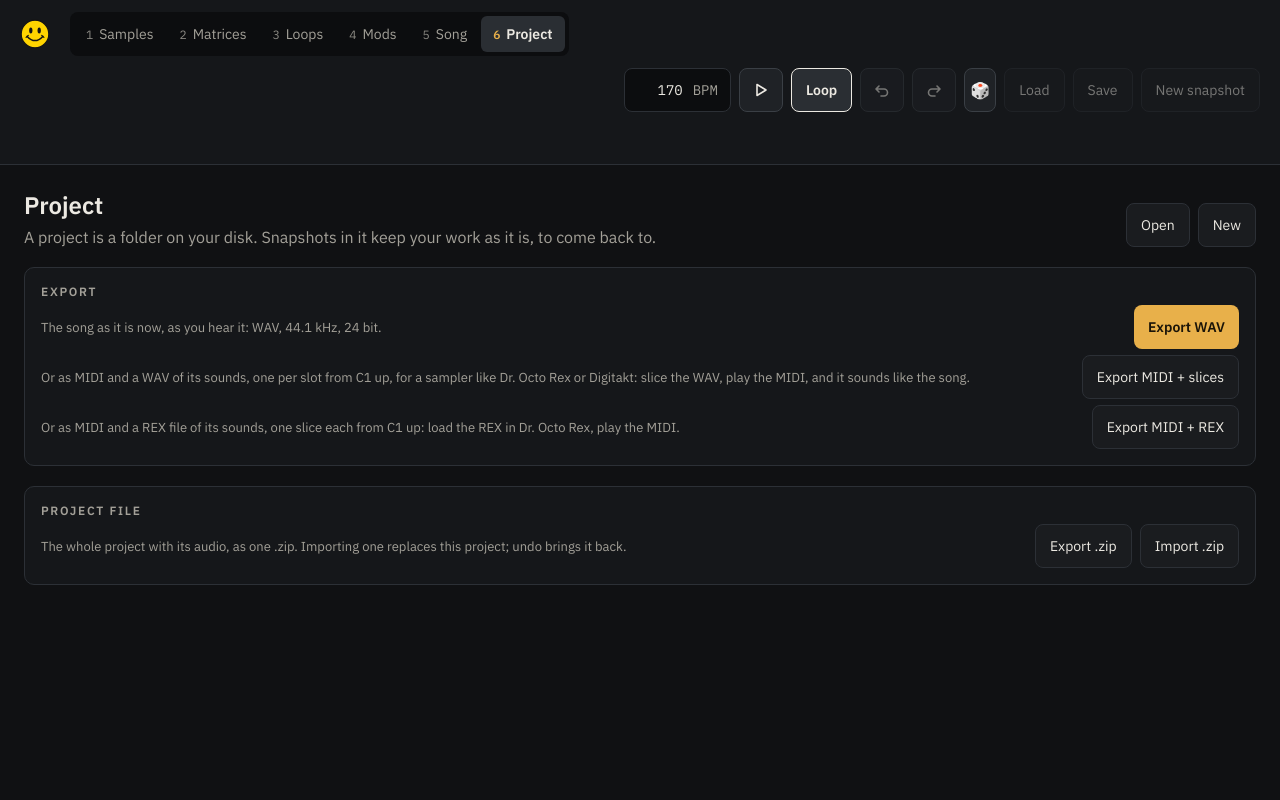
Test: Project › New snapshot looks off while it is off (no project folder), and primary once there is one (U17)
The image size is (1280, 800).
Expected: the button "New snapshot" is disabled, 1140,68 -> 1260,112
Step 1. Click the button "New" → (1227, 225), box 1198,203 -> 1256,247
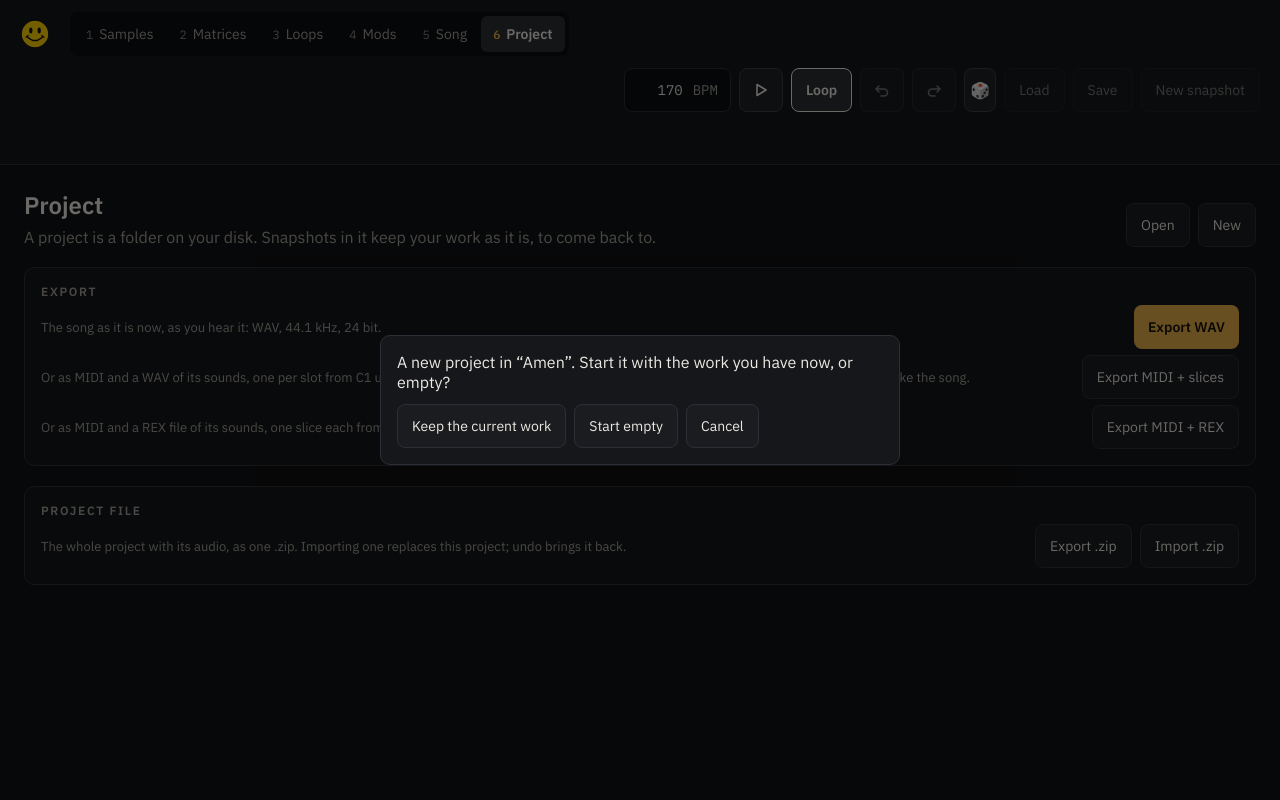
Step 2. Click the button "Keep the current work" → (482, 426), box 397,404 -> 566,448
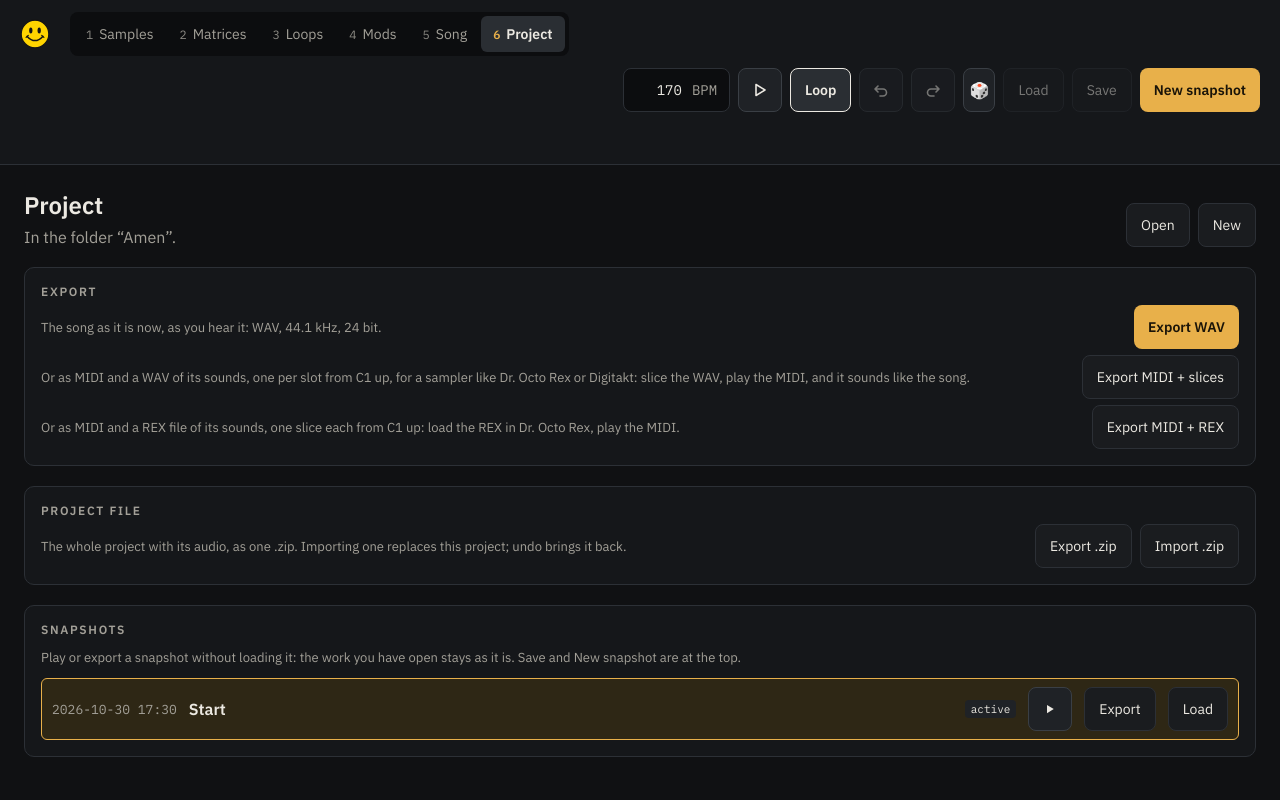
Expected: the button "New snapshot" is enabled, 1140,68 -> 1260,112
